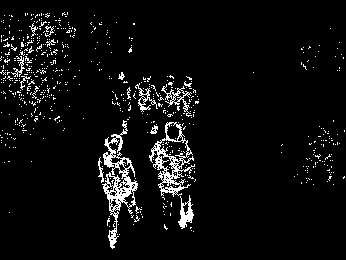person: (96, 134, 145, 249), (155, 122, 203, 233), (109, 70, 134, 133), (159, 70, 177, 122), (182, 70, 199, 122), (140, 72, 154, 120)
